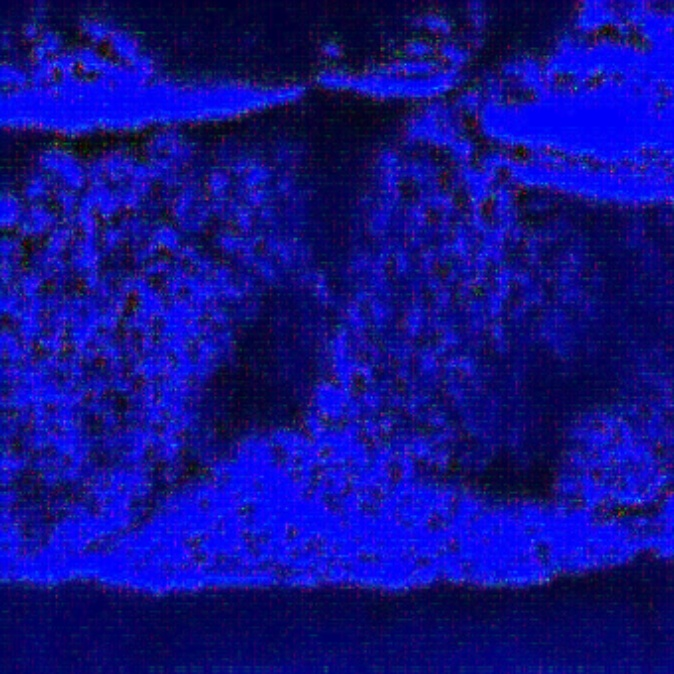rip_current: (214, 43, 387, 520)
